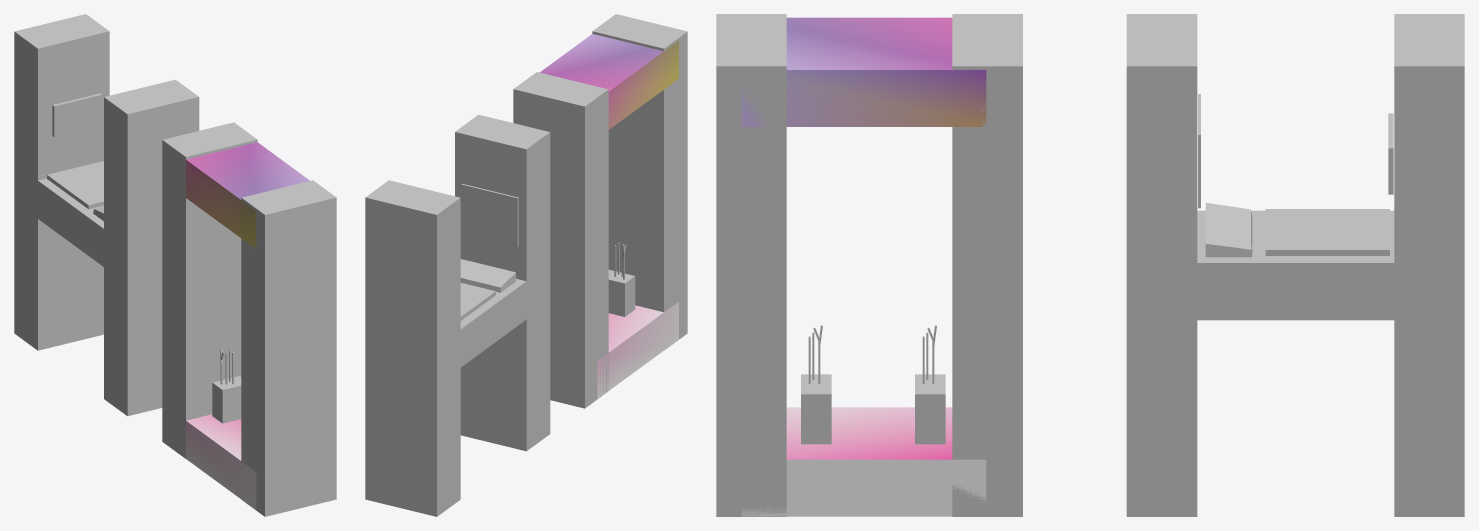
Rendered from moreLetters.fbx.
The picture shows the model from 3 angles, left to right: view 1: azimuth 30°, elevation 25°; view 2: azimuth 150°, elevation 25°; view 3: azimuth 270°, elevation 25°; orthographic projection. The views are drawn at different scales.
Parts seen in each view (by area): view 1: Cube.010, Cube.001, Cube, Cube.008, Cube.007, Cube.009, Cube.002, Cube.004, Cube.006, Cube.011; view 2: Cube.001, Cube, Cube.008, Cube.010, Cube.007, Cube.009, Cube.002, Cube.005, Cube.003, Cube.024, Cube.004; view 3: Cube, Cube.010, Cube.001, Cube.008, Cube.007, Cube.009, Cube.002, Cube.004, Cube.003, Cube.011, Cube.024.
Boxes of the visible parts, x1,y1,x2,y2 form: Cube.010: (241, 180, 336, 516); Cube.001: (14, 14, 109, 350); Cube: (104, 79, 199, 416); Cube.008: (162, 122, 257, 458); Cube.007: (186, 142, 309, 248); Cube.009: (186, 414, 256, 509); Cube.002: (27, 174, 108, 269); Cube.004: (47, 161, 103, 209); Cube.006: (52, 93, 102, 137); Cube.011: (212, 376, 241, 423); Cube.001: (365, 180, 460, 516); Cube: (455, 114, 550, 451); Cube.008: (513, 72, 608, 408); Cube.010: (592, 14, 687, 347); Cube.007: (540, 34, 678, 129); Cube.009: (597, 301, 678, 398); Cube.002: (449, 278, 530, 367); Cube.005: (461, 184, 518, 247); Cube.003: (460, 259, 515, 292); Cube.024: (608, 269, 635, 316); Cube.004: (460, 283, 495, 320); Cube: (1126, 14, 1197, 516); Cube.010: (716, 14, 786, 516); Cube.001: (1394, 14, 1464, 516); Cube.008: (952, 14, 1022, 516); Cube.007: (741, 17, 986, 126); Cube.009: (741, 407, 986, 516); Cube.002: (1183, 210, 1427, 320); Cube.004: (1265, 209, 1389, 255); Cube.003: (1205, 203, 1252, 257); Cube.011: (915, 374, 945, 444); Cube.024: (801, 374, 831, 444).
Bounding box in the file's own units: 80.6 × 325 × 488.
